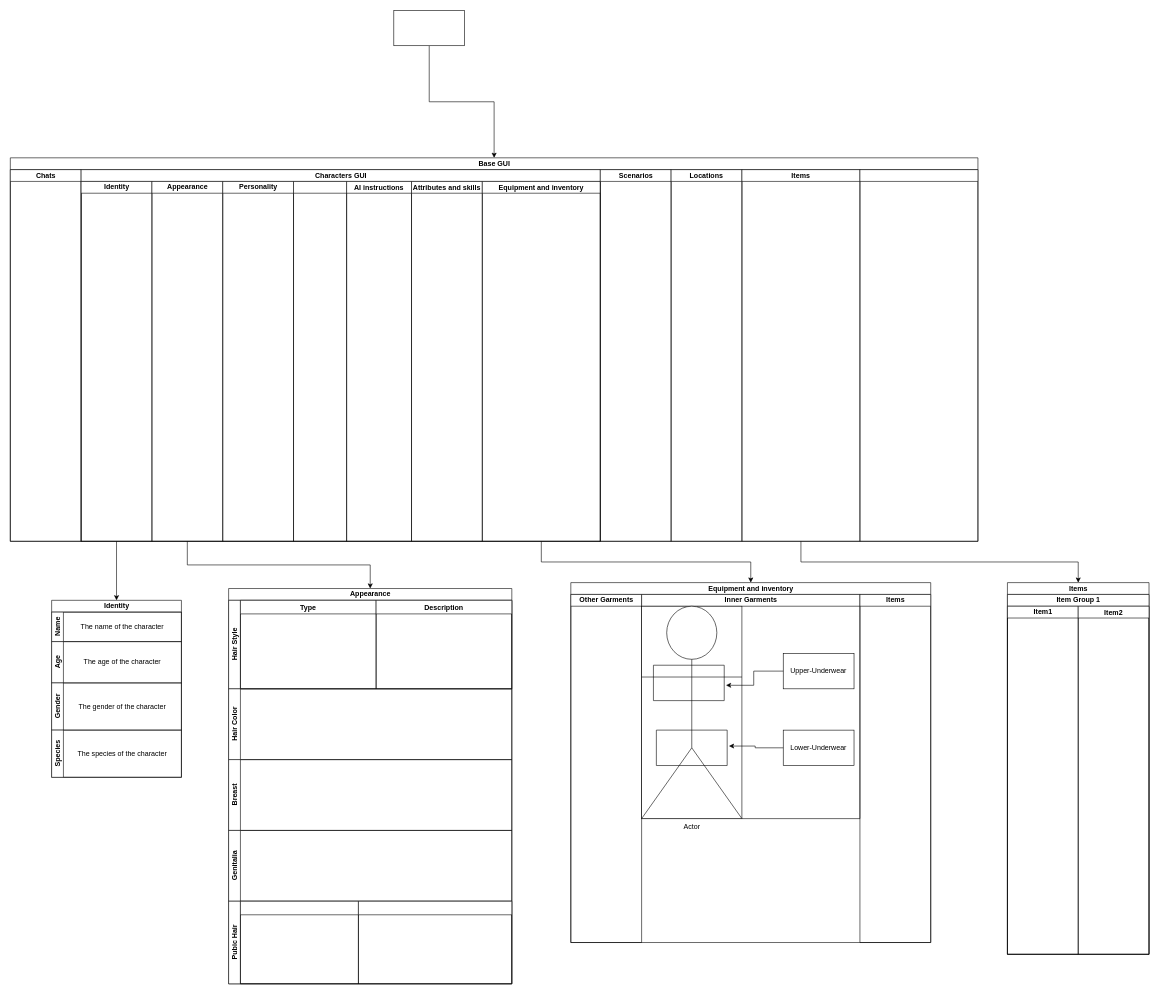
This 1159x994 diagram has some shape labels left out. Here are the shapes that lost their labels. From the top down, the centre of each, then its label:
(429,28): EFMA
(320,361): Background
(918,355): Quests
(299,942): Style
(435,942): Color
